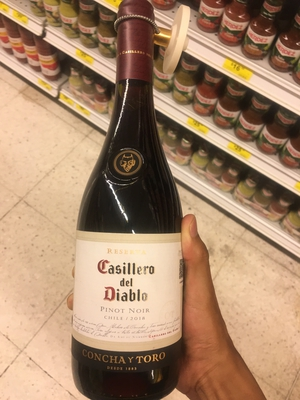casillero del diablo pinot noir: (65, 6, 205, 400)
